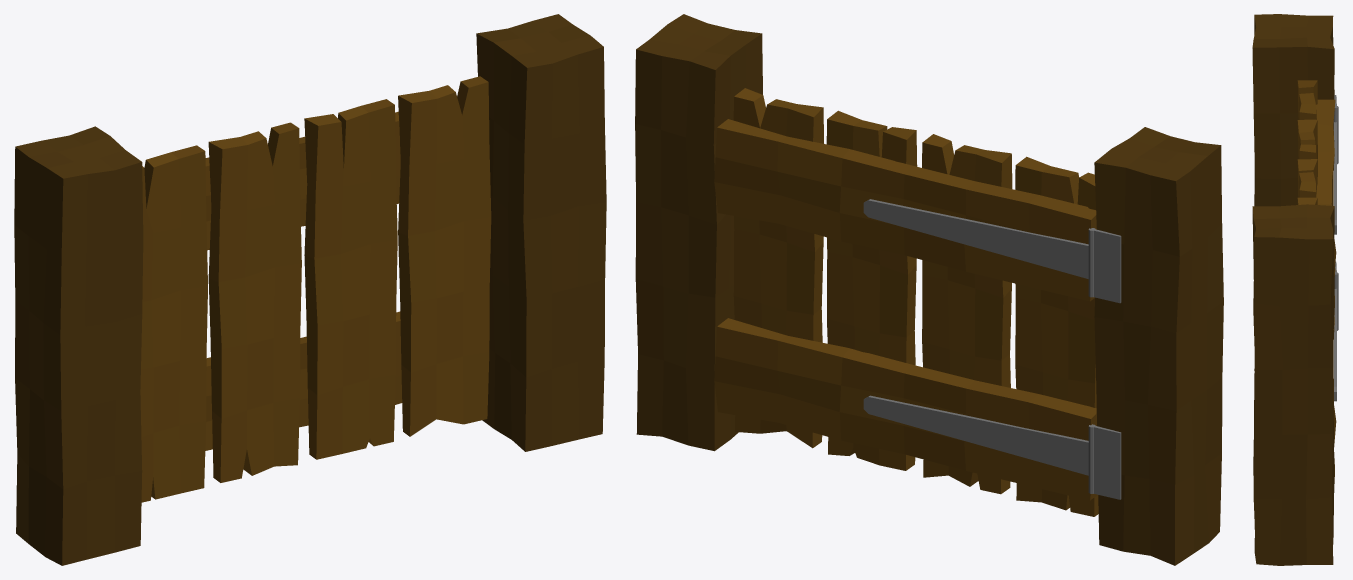
The model's file is gate.glb.
3 views of the same model, side by side, from view 1: azimuth 30°, elevation 25°; view 2: azimuth 150°, elevation 25°; view 3: azimuth 270°, elevation 25° (orthographic). The views are drawn at different scales.
Parts seen in each view (by area): view 1: GatePost, Cube.004, Cube.002, Cube.005, Cube.003, Cube, Cube.001; view 2: GatePost, Cube, Cube.001, Cube.004, Cube.002, Cube.005, Cube.003, Cube.009, Cube.007, Cube.008, Cube.006; view 3: GatePost, Cube.001, Cube.002, Cube.003, Cube.004, Cube.009, Cube.007, Cube, Cylinder.001, Cube.005, Cylinder.
Boxes of the visible parts, x1,y1,x2,y2 form: GatePost: (14,14,606,565); Cube.004: (304,99,397,459); Cube.002: (208,122,301,482); Cube.005: (398,76,491,436); Cube.003: (140,145,207,502); Cube: (205,311,402,450); Cube.001: (205,111,400,250); GatePost: (635,14,1223,565); Cube: (714,318,1097,500); Cube.001: (714,119,1096,301); Cube.004: (826,110,917,470); Cube.002: (922,134,1012,494); Cube.005: (733,88,823,448); Cube.003: (1015,156,1098,516); Cube.009: (863,199,1088,278); Cube.007: (863,395,1088,475); Cube.008: (1094,229,1121,303); Cube.006: (1094,426,1121,499); GatePost: (1252,14,1334,565); Cube.001: (1316,99,1336,321); Cube.002: (1297,119,1317,159); Cube.003: (1297,80,1317,119); Cube.004: (1297,159,1317,197); Cube.009: (1334,122,1336,234); Cube.007: (1334,288,1336,401); Cube: (1333,268,1336,483); Cylinder.001: (1333,105,1338,164); Cube.005: (1297,197,1317,204); Cylinder: (1334,272,1338,330).
Size of the model in its own units: 1.71 by 1.16 by 0.2761.
